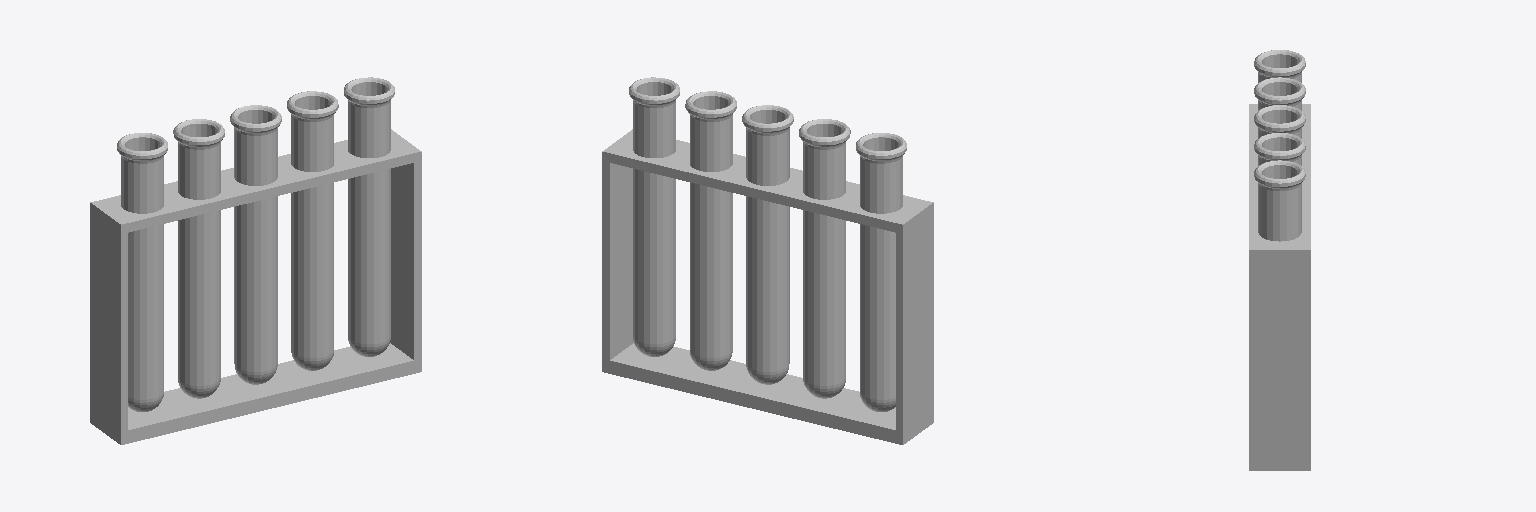
Rendered from test tubes export.obj.
The picture shows the model from 3 angles: view 1: azimuth 30°, elevation 25°; view 2: azimuth 150°, elevation 25°; view 3: azimuth 270°, elevation 25°; orthographic projection.
Visible parts, largest first — view 1: polySurface19; view 2: polySurface19; view 3: polySurface19.
Part boxes in pixels (left/top/right/bottom): polySurface19: left=90, top=77, right=421, bottom=444; polySurface19: left=602, top=77, right=933, bottom=444; polySurface19: left=1249, top=50, right=1310, bottom=470.
Size of the model in its own units: 15.9 by 14.32 by 2.8.